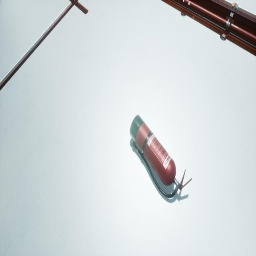FireExtinguisher ]: (130, 115, 192, 198)
